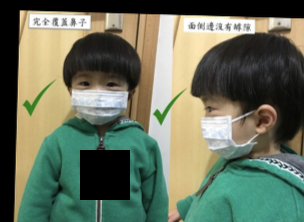with_mask: (198, 95, 259, 162), (69, 73, 129, 127)
